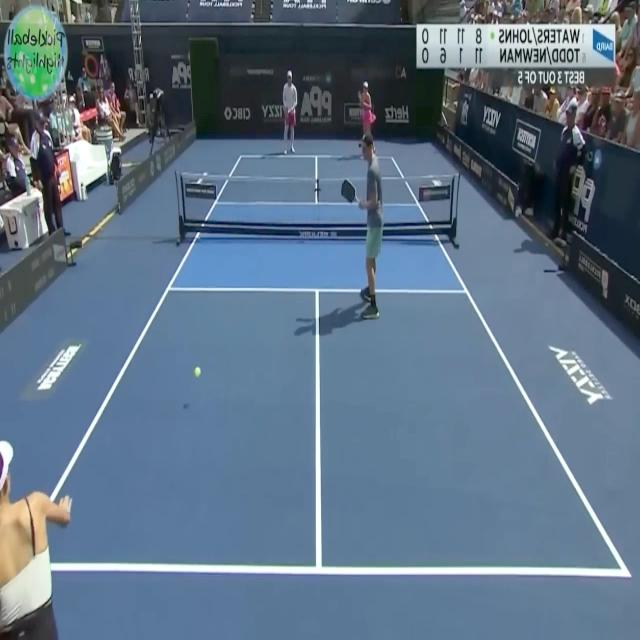Pickleball: (194, 364, 202, 379)
